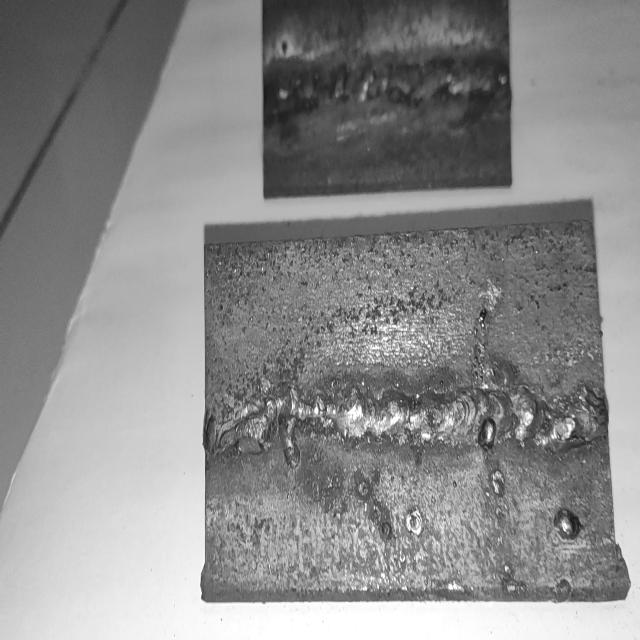Bad Weld: (209, 379, 607, 465), (268, 59, 508, 119)
Defect: (269, 58, 504, 124), (469, 378, 608, 469), (212, 368, 338, 468)
